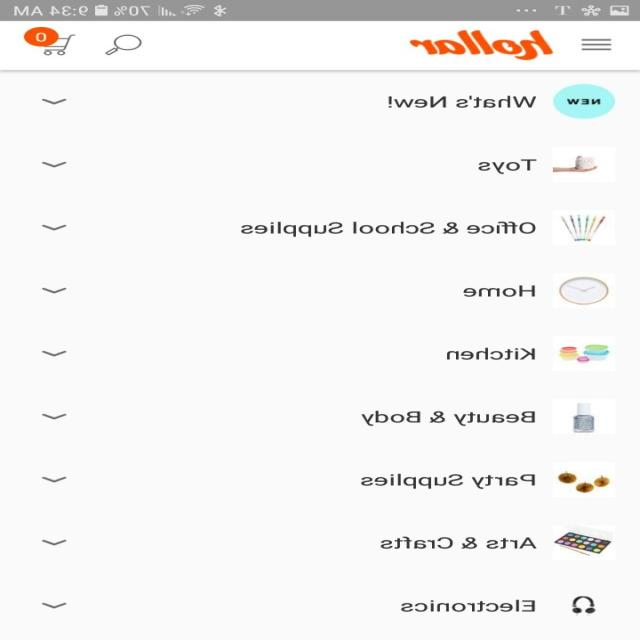Icon: (24, 28, 76, 56), (105, 34, 144, 54), (582, 38, 612, 51), (42, 98, 68, 105), (42, 602, 68, 608), (42, 539, 68, 545), (42, 476, 68, 482), (42, 413, 68, 419), (42, 162, 68, 168), (42, 351, 68, 356), (42, 288, 68, 293), (42, 225, 68, 230)
Image: (411, 30, 554, 60), (554, 398, 616, 434), (552, 272, 614, 308), (554, 524, 616, 559), (552, 210, 614, 245), (552, 147, 614, 182), (552, 462, 614, 496), (554, 336, 616, 370), (572, 596, 596, 616)
Text: (241, 221, 536, 237), (361, 473, 536, 489), (361, 410, 536, 426), (380, 536, 537, 548), (388, 96, 537, 108), (401, 599, 536, 611), (446, 347, 535, 359), (478, 159, 538, 174), (463, 284, 536, 296)
TextButton: (554, 84, 616, 118)
